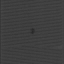dust: (29, 27, 35, 34)
